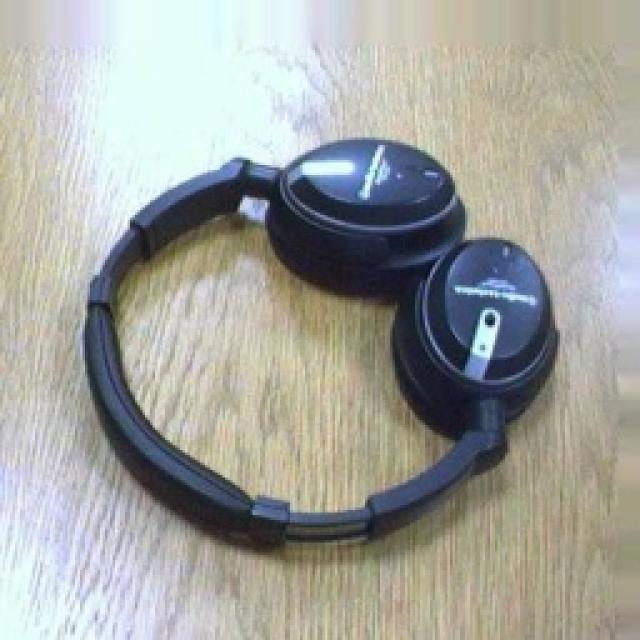headphones: (80, 132, 560, 548)
